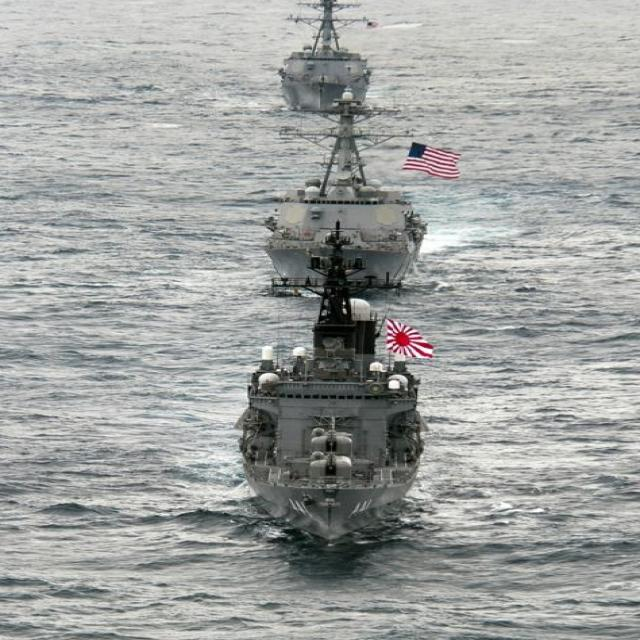navalvessels: (206, 280, 462, 546), (242, 112, 446, 296), (266, 0, 393, 120)
